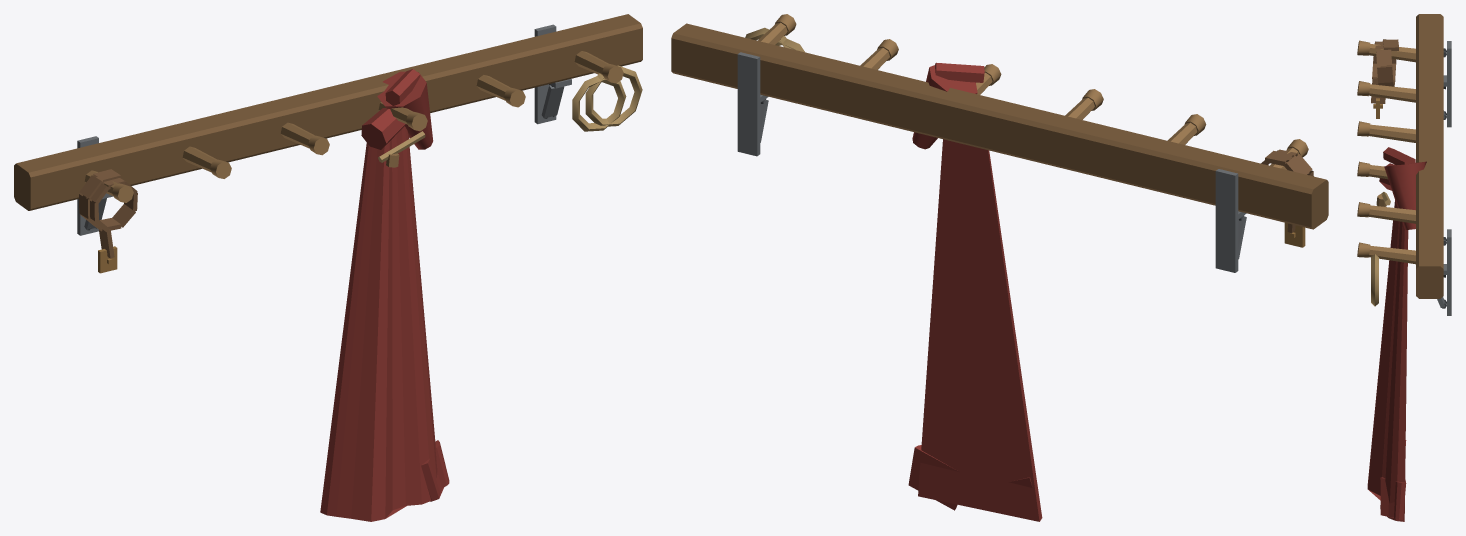
File: SM_LPD_Furn_KitPegRail_01.fbx
3 renders of one model, left to right at view 1: azimuth 30°, elevation 25°; view 2: azimuth 150°, elevation 25°; view 3: azimuth 270°, elevation 25°, orthographic. The views are drawn at different scales.
Parts seen in each view (by area): view 1: SM_LPD_Furn_KitPegRail_01; view 2: SM_LPD_Furn_KitPegRail_01; view 3: SM_LPD_Furn_KitPegRail_01.
Boxes of the visible parts, <box> form: SM_LPD_Furn_KitPegRail_01: <box>14,14,642,521</box>; SM_LPD_Furn_KitPegRail_01: <box>671,14,1328,521</box>; SM_LPD_Furn_KitPegRail_01: <box>1357,14,1451,521</box>.
Size of the model in its own units: 1.5 by 1 by 0.2373.
